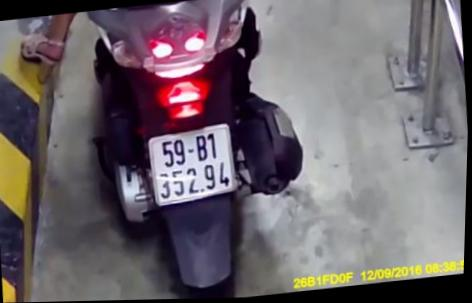LP: (146, 124, 242, 207)
